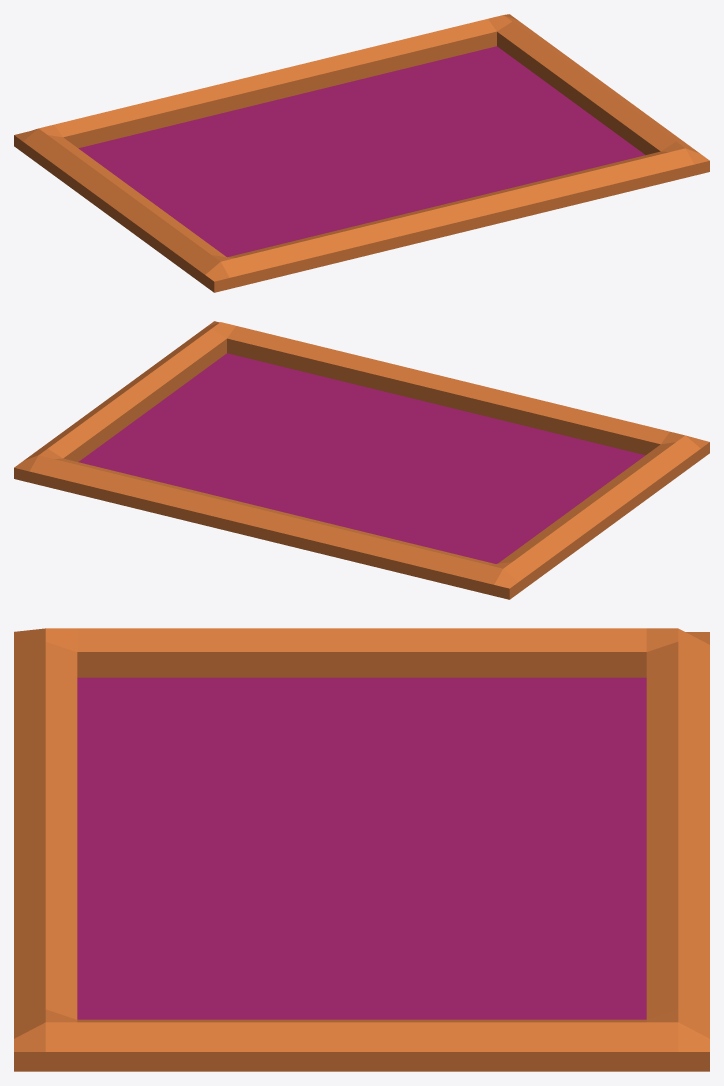
Rendered from portraitVioleta.fbx.
3 views of the same model, one above another, from view 1: azimuth 30°, elevation 25°; view 2: azimuth 150°, elevation 25°; view 3: azimuth 270°, elevation 25° (orthographic). The views are drawn at different scales.
Parts seen in each view (by area): view 1: Cube; view 2: Cube; view 3: Cube.
Boxes of the visible parts, bbox=[...] form: Cube: bbox=[14, 14, 709, 292]; Cube: bbox=[14, 321, 709, 599]; Cube: bbox=[14, 628, 709, 1071].
Size of the model in its own units: 500 by 20 by 350.
Materials: 1 (1 with a texture image).
